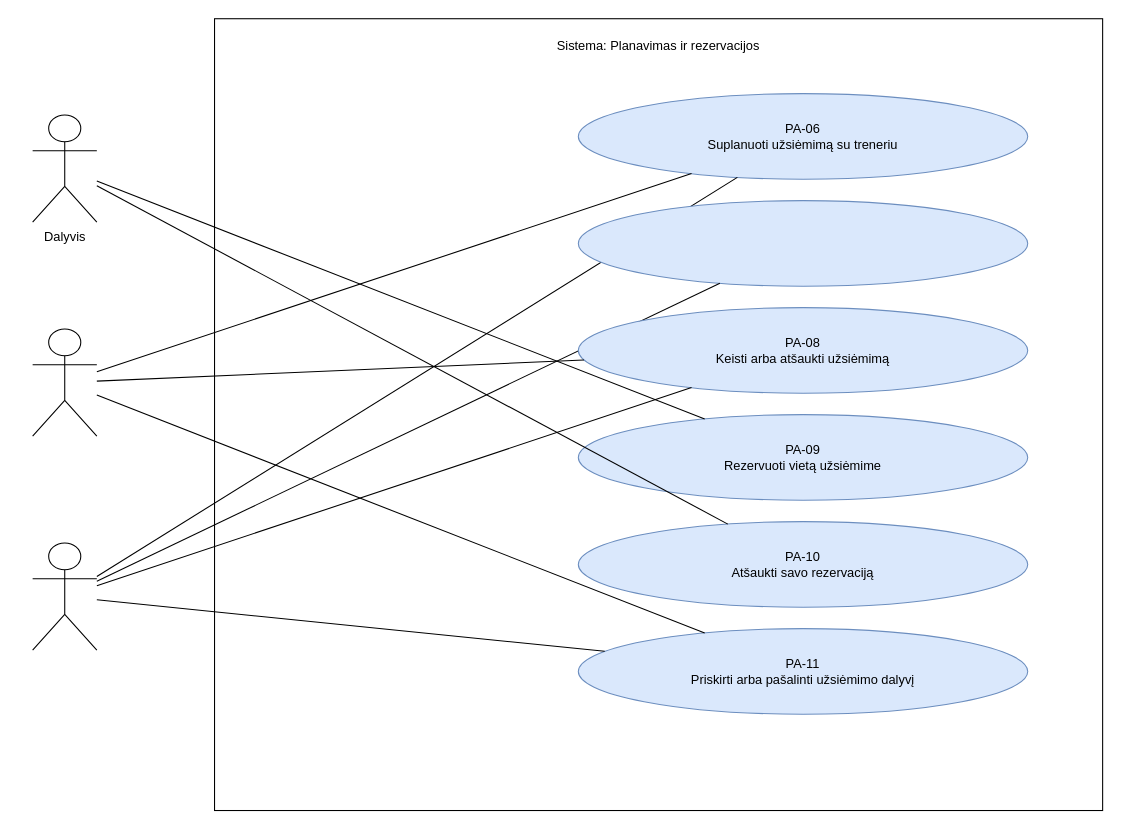
This 1121x829 diagram has some shape labels left out. The centre of each missing label's shape, as x and y in pixels:
"Administratorius" goes at point 64,596.
"PA-07 Suplanuoti virtualaus trenerio užsiėmimą" goes at point 802,243.
"Treneris" goes at point 64,382.
